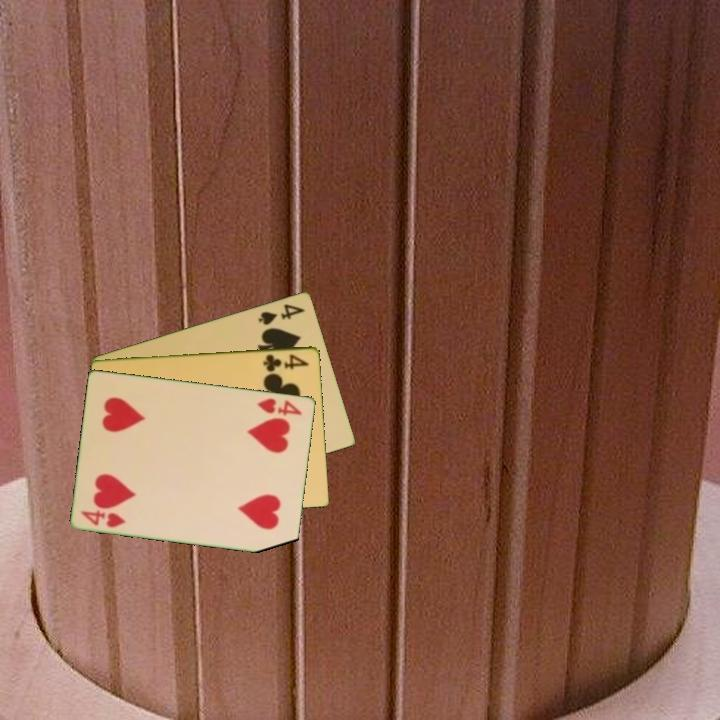4c: (260, 350, 312, 374)
4h: (254, 394, 305, 419), (77, 506, 129, 530)
4s: (255, 300, 308, 328)
